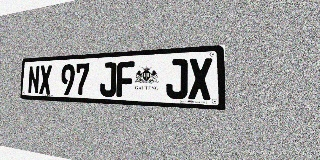7: (74, 63, 90, 96)
9: (61, 64, 75, 95)
F: (116, 61, 134, 97)
J: (166, 59, 188, 99), (100, 62, 116, 97)
N: (28, 65, 40, 94)
X: (188, 58, 212, 100), (39, 65, 52, 95)
